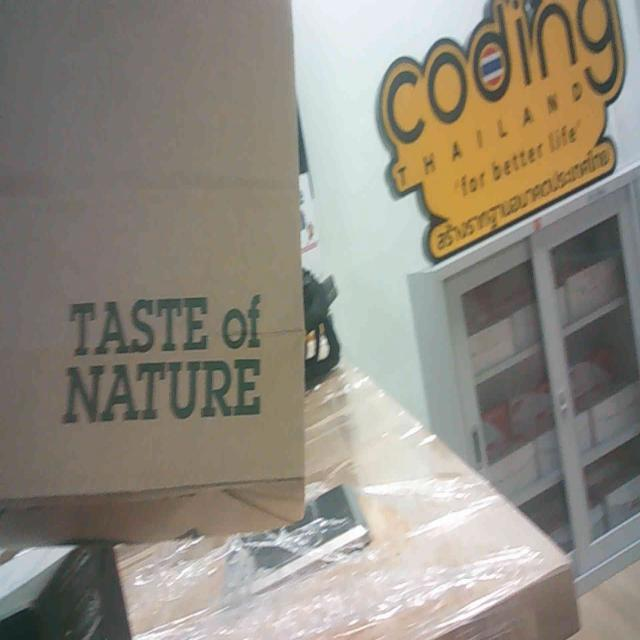bag: (0, 0, 309, 520)
